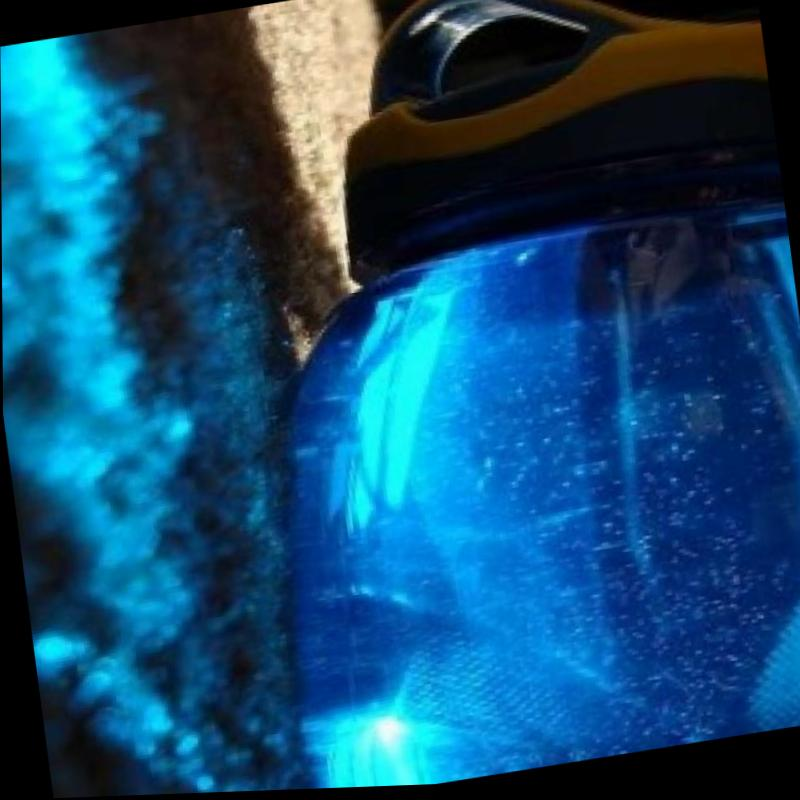botella: (229, 194, 800, 793)
